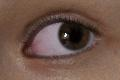eye: (58, 21, 89, 50)
